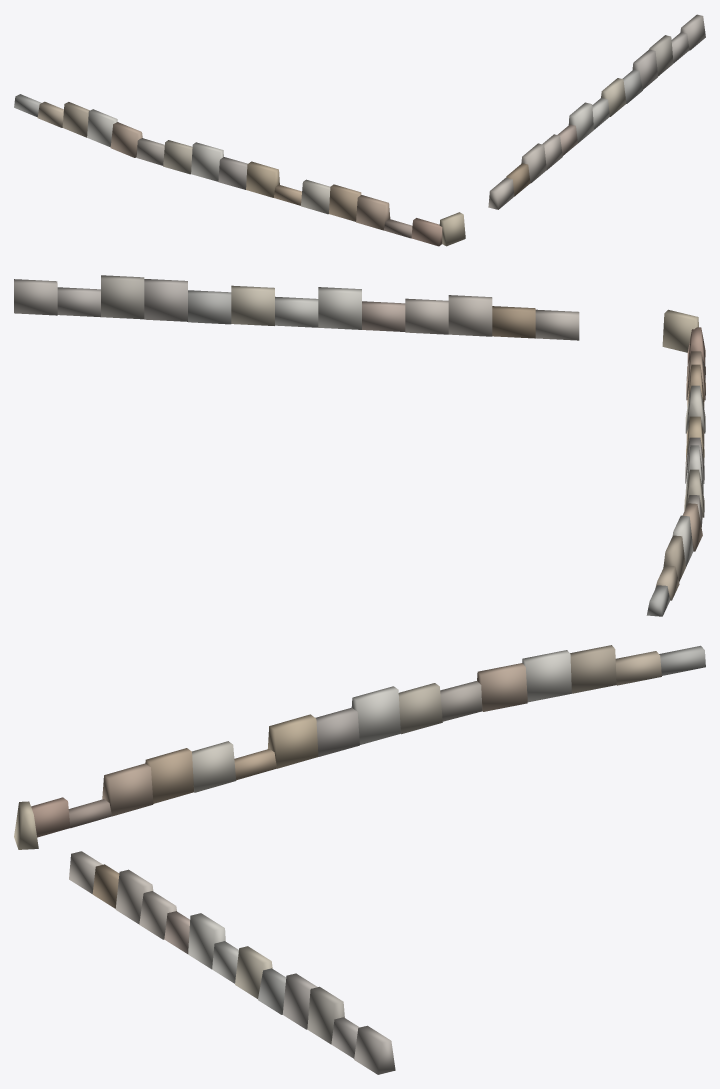
The model's file is farm_-11_9_collision.glb.
The picture shows the model from 3 angles, top to bottom: view 1: azimuth 30°, elevation 25°; view 2: azimuth 150°, elevation 25°; view 3: azimuth 270°, elevation 25°; orthographic projection. The views are drawn at different scales.
Visible parts, largest first — view 1: geometry_0; view 2: geometry_0; view 3: geometry_0.
Part boxes in pixels (<box>): geometry_0: <box>14,14,705,246</box>; geometry_0: <box>14,275,705,616</box>; geometry_0: <box>14,645,705,1074</box>.
Bounding box in the file's own units: 33.6 × 2.76 × 23.13.
